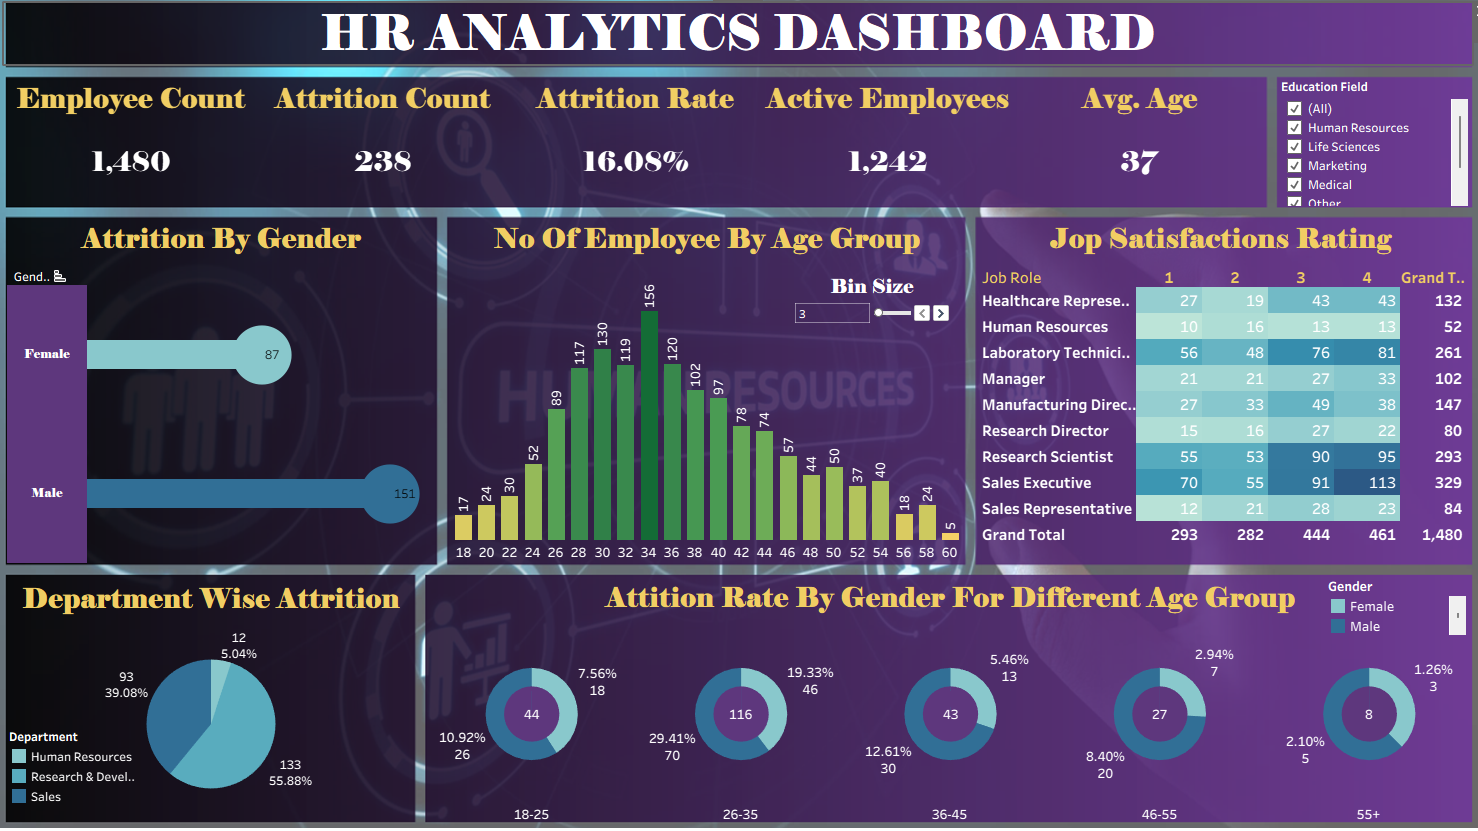

What the dashboard file says about the page in this screenshot:
{"tool":"tableau","page":{"name":"HR ANALYTICS DASHBOARD","canvas":[1000,1000],"units":"permille","ordinal":0},"visuals":[{"type":"image","param":"Image/Slide2.PNG","box":[4.7,9.3,990.6,981.3]},{"type":"text","box":[70.2,22.2,859,71.3]},{"type":"worksheet","title":"KPIS","mark":"Automatic","box":[70.8,107.5,737.9,154.2]},{"type":"filter","title":"Attrition By Gender","param":"[federated.1wr1x0p0pfhztl13vt83a17qyiez].[none:EducationField:nk]","box":[817.4,109.8,109.4,149.5]},{"type":"worksheet","title":"Attrition By Gender","mark":"Automatic","rows":["Gender"],"cols":["Calculation_0964286855368705","Calculation_0964286855368705"],"box":[72,272.2,251,404.2]},{"type":"worksheet","title":"No Of Employee By Age Group","mark":"Automatic","rows":["EmployeeCount"],"cols":["Age (bin)"],"box":[332.4,272.2,298.4,403]},{"type":"worksheet","title":"Jop Satisfactions Rating","mark":"Square","rows":["JobRole"],"cols":["JobSatisfaction"],"box":[639,272.2,289.1,405.4]},{"type":"parameter","param":"[Parameters].[Parameter 1]","box":[531.3,338.8,93.6,81.8]},{"type":"worksheet","title":"Attition Rate By Gender For Different Age Group","mark":"Pie","rows":["Calculation_0129482738933762","Calculation_0129482738933762"],"cols":["AgeGroup"],"box":[317.7,691.6,612.6,289.7]},{"type":"worksheet","title":"Department Wise Attrition","mark":"Pie","box":[73.1,692.8,236.4,285.1]},{"type":"legend","title":"Attition Rate By Gender For Different Age Group","param":"[federated.1wr1x0p0pfhztl13vt83a17qyiez].[none:Gender:nk]","box":[844.9,692.8,81.9,67.8]},{"type":"legend","title":"Department Wise Attrition","param":"[federated.1wr1x0p0pfhztl13vt83a17qyiez].[none:Department:nk]","box":[73.1,869.2,77.2,91.1]}]}

Visuals, with their boxes on the dashboard's canvas, which has no fixed pixel size, in thousandths of its width and height (x1, y1, x2, y2). These are canvas units, not pixel positions in the 1478x831 screenshot, which may show the page scaled, cropped or inside an application window:
image: x1=5, y1=9, x2=995, y2=991
text: x1=70, y1=22, x2=929, y2=94
"KPIS" worksheet: x1=71, y1=108, x2=809, y2=262
"Attrition By Gender" filter: x1=817, y1=110, x2=927, y2=259
"Attrition By Gender" worksheet: x1=72, y1=272, x2=323, y2=676
"No Of Employee By Age Group" worksheet: x1=332, y1=272, x2=631, y2=675
"Jop Satisfactions Rating" worksheet (Square marks): x1=639, y1=272, x2=928, y2=678
parameter: x1=531, y1=339, x2=625, y2=421
"Attition Rate By Gender For Different Age Group" worksheet (Pie marks): x1=318, y1=692, x2=930, y2=981
"Department Wise Attrition" worksheet (Pie marks): x1=73, y1=693, x2=310, y2=978
"Attition Rate By Gender For Different Age Group" legend: x1=845, y1=693, x2=927, y2=761
"Department Wise Attrition" legend: x1=73, y1=869, x2=150, y2=960
